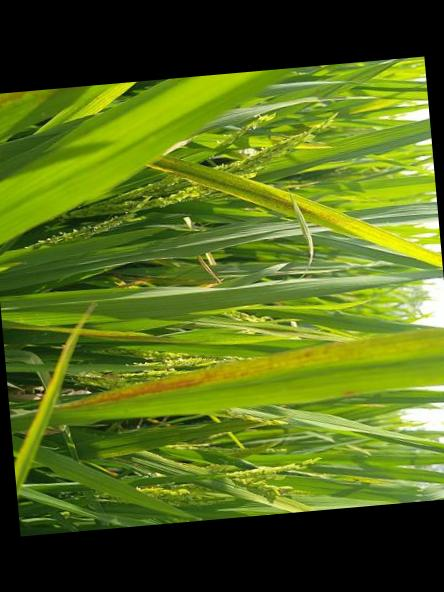Leaf Streak: (145, 154, 442, 268), (191, 334, 444, 381), (71, 374, 195, 406), (337, 386, 362, 397)
